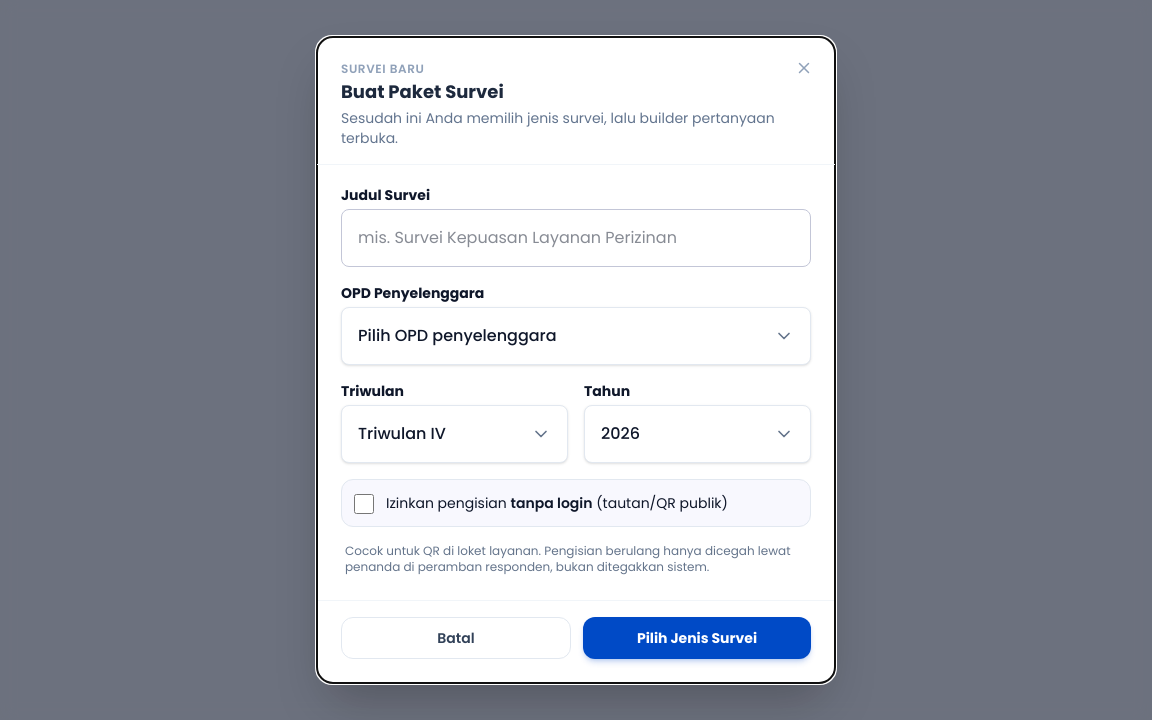
Test: SurveyFormModal — pencarian OPD › dropdown OPD punya medan cari yang menyaring daftarnya
Click the button labelled "Pilih OPD penyelenggara".
click(457, 335)  # box [341, 306, 811, 364]
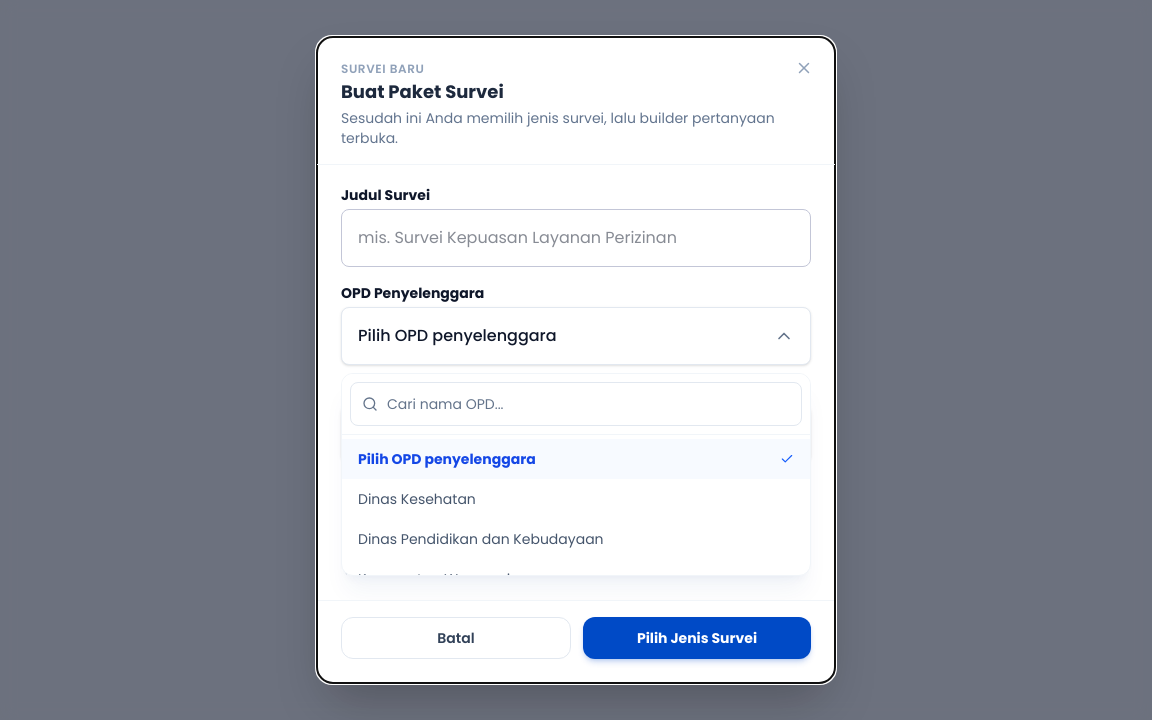
Type "wono" into the field named "cari opd penyelenggara".
click(576, 404); type("wono")  # box [350, 382, 802, 426]
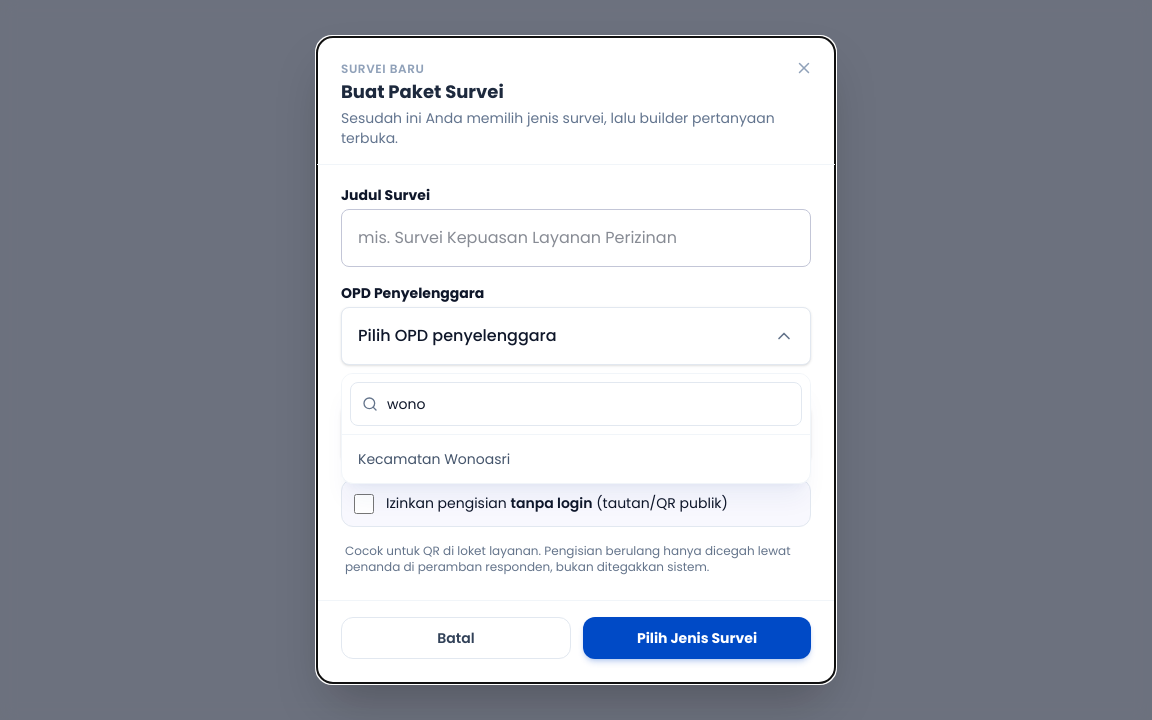
expect the button "Kecamatan Wonoasri" is shown: met, box [342, 438, 810, 478]
expect the button "Dinas Kesehatan" is gone: met
